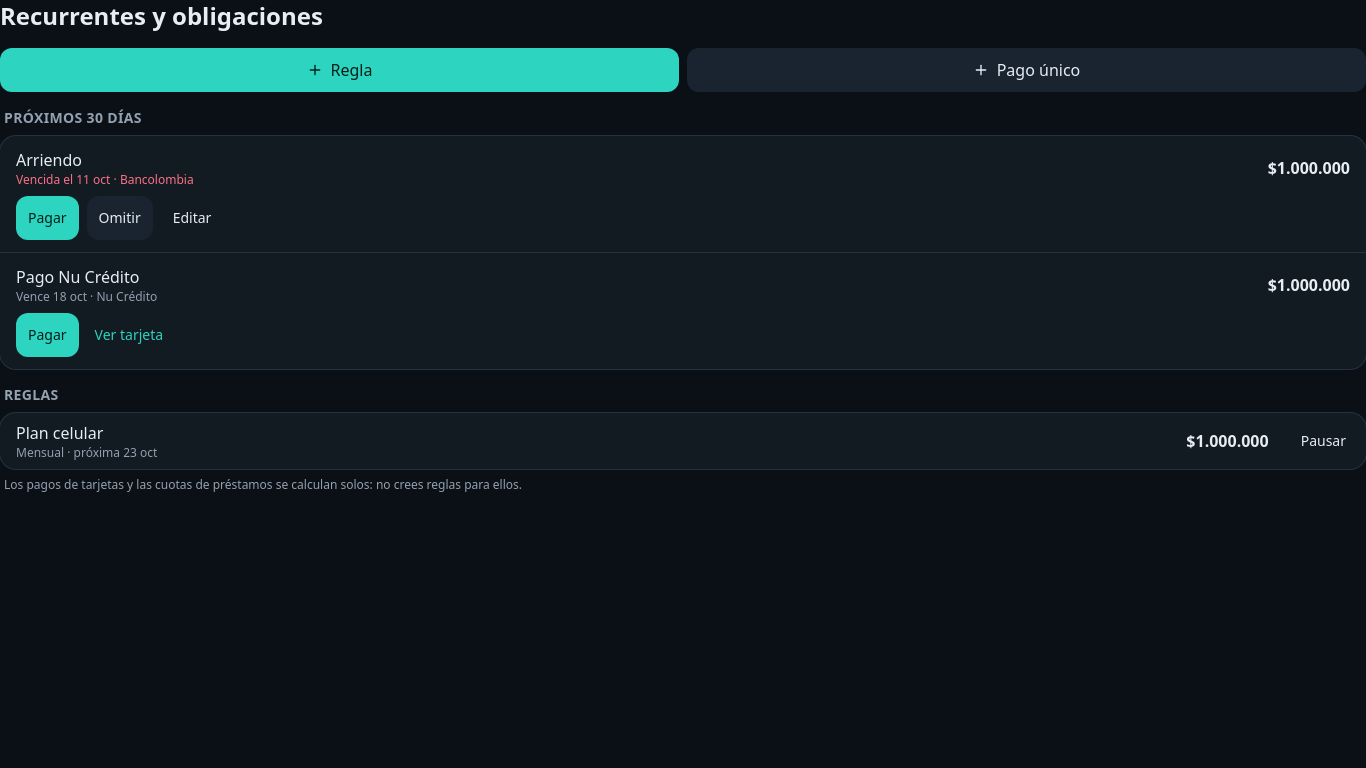
it: RecurringPage (spec 8.11) › keeps a deleted category selectable, marked, when editing a rule
Click the text "Plan celular" at (60, 433), box [16,422,103,444]
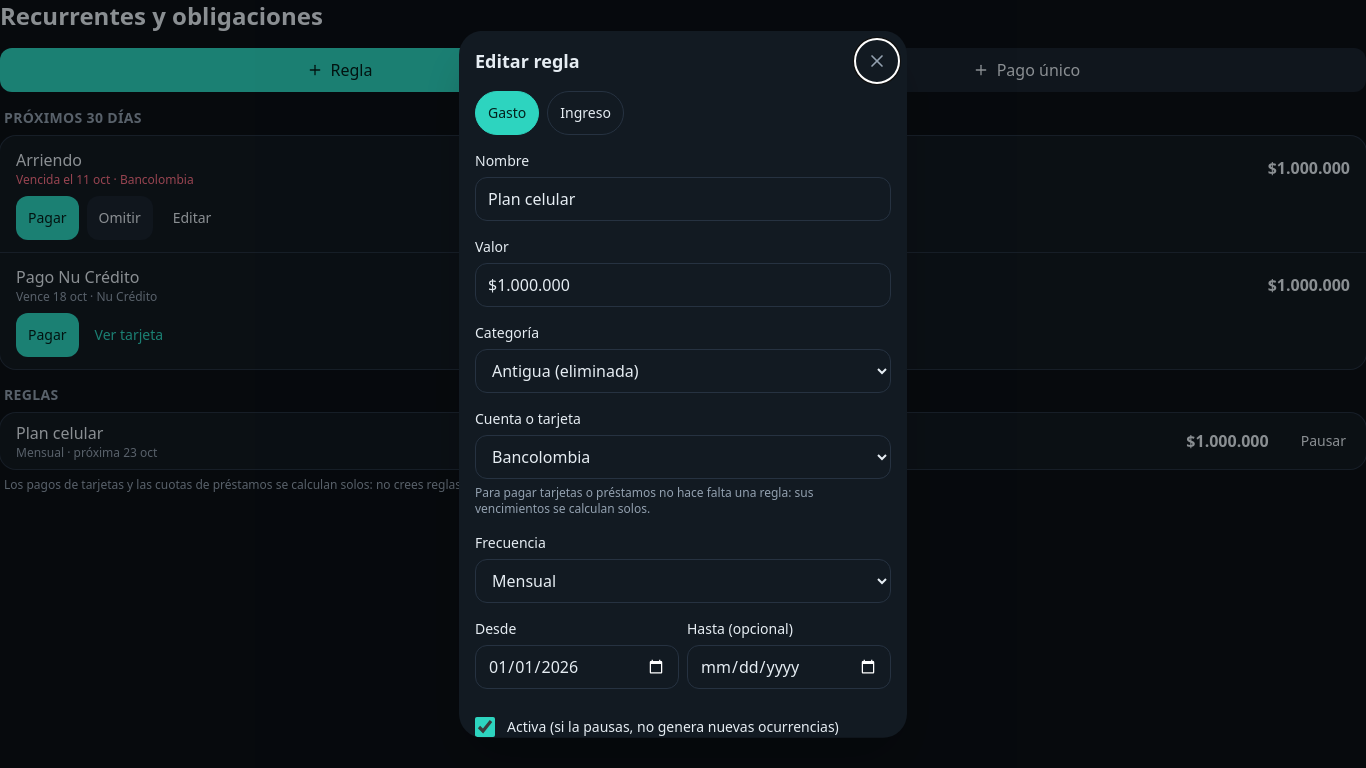
Now the dropdown labelled "Categoría" shows "Antigua (eliminada)", box [475,349,891,393]
